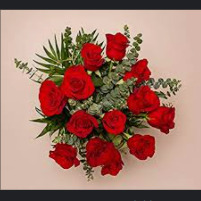RedRose: (86, 137, 129, 175), (30, 76, 65, 115), (102, 29, 133, 63), (64, 66, 94, 101), (128, 134, 157, 167), (45, 143, 79, 171), (125, 58, 157, 87), (151, 107, 182, 136), (130, 86, 162, 114), (68, 109, 96, 138), (104, 108, 129, 134), (82, 44, 105, 71)
